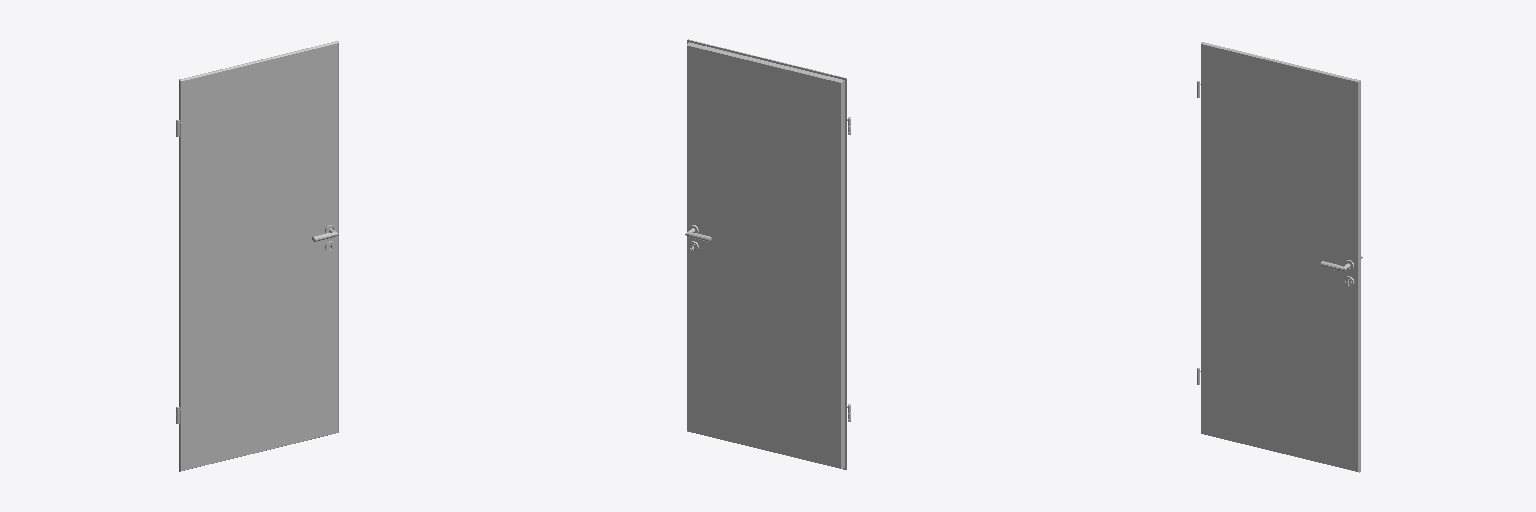
The model's file is dvere.obj.
3 renders of one model, left to right at view 1: azimuth 30°, elevation 25°; view 2: azimuth 150°, elevation 25°; view 3: azimuth 330°, elevation 25°, orthographic.
Parts seen in each view (by area): view 1: Plane.001_Door_0; view 2: Plane.001_Door_0; view 3: Plane.001_Door_0.
Part boxes in pixels (x1,y1,x2,y2): Plane.001_Door_0: (179, 41, 338, 471); Plane.001_Door_0: (687, 39, 846, 469); Plane.001_Door_0: (1201, 42, 1360, 472).
Size of the model in its own units: 86.79 by 200 by 17.